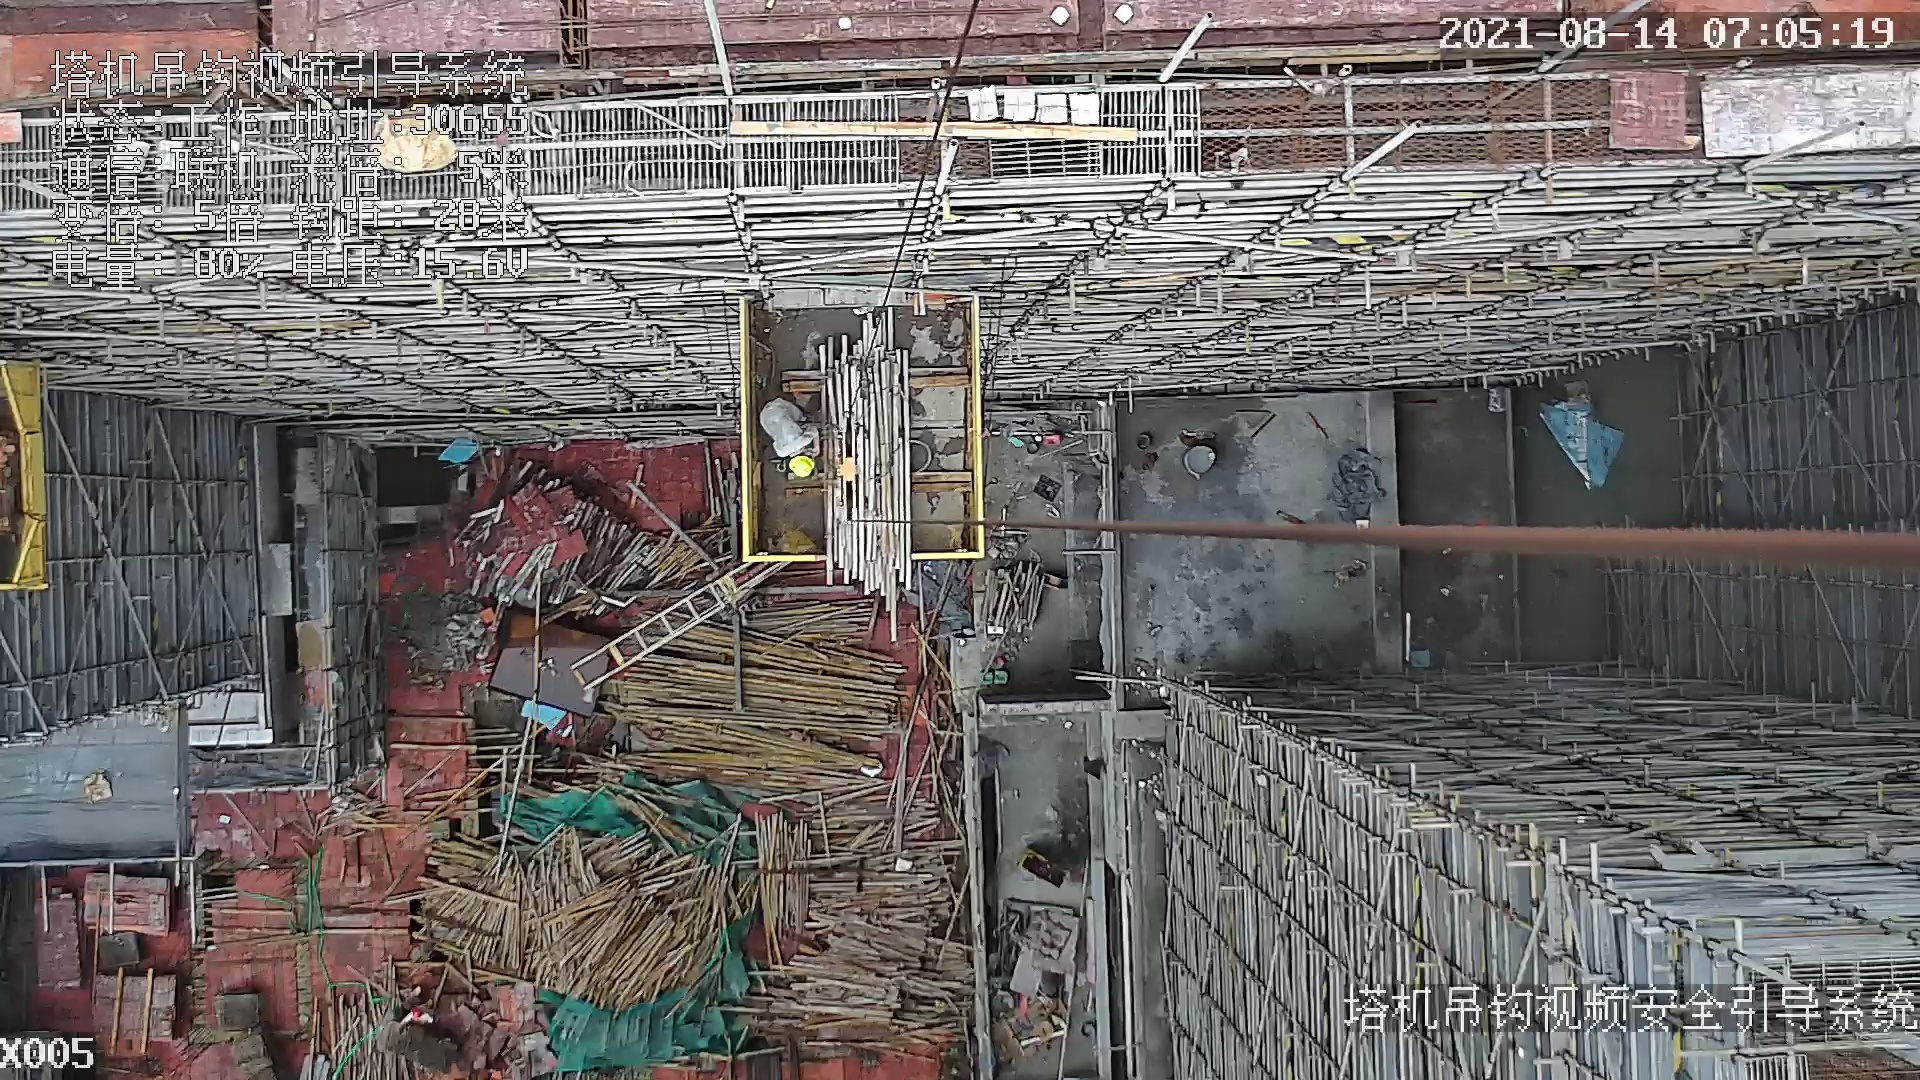helmet: (787, 454, 816, 479)
hook: (831, 412, 864, 523)
person: (747, 399, 832, 485)
